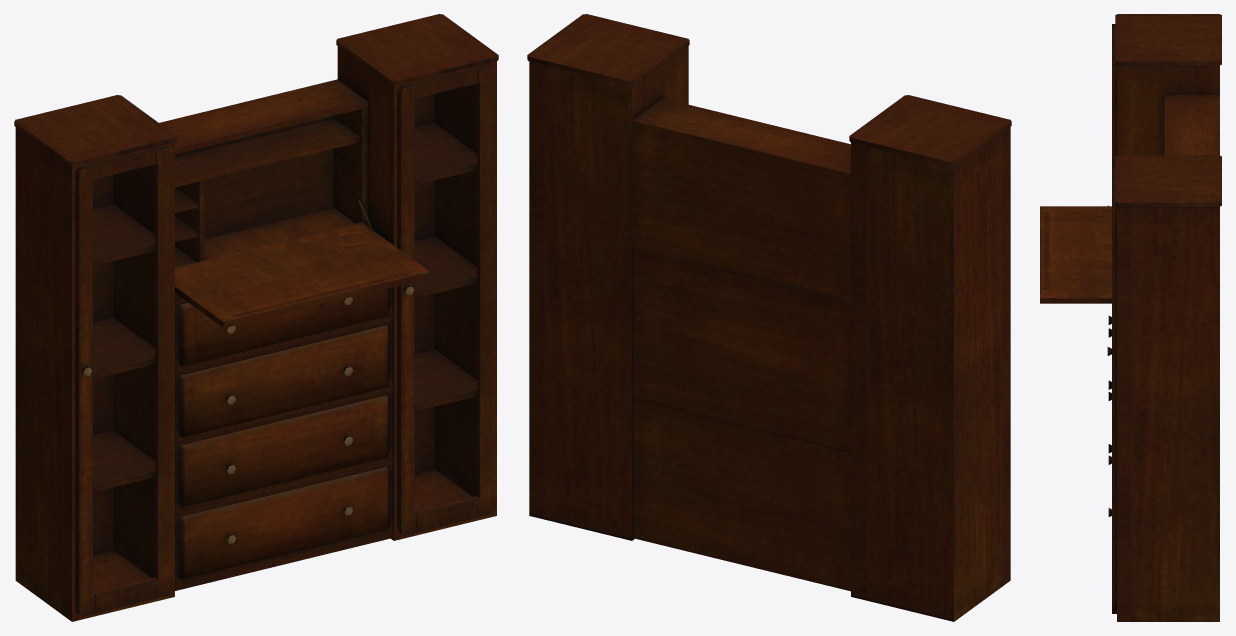
Rendered from si-kommode.glb.
3 renders of one model, left to right at view 1: azimuth 30°, elevation 25°; view 2: azimuth 150°, elevation 25°; view 3: azimuth 270°, elevation 25°, orthographic. The views are drawn at different scales.
Visible parts, largest first — view 1: si-kommode; view 2: si-kommode; view 3: si-kommode.
Part boxes in pixels (bbox=[...]): si-kommode: bbox=[14, 14, 498, 621]; si-kommode: bbox=[527, 14, 1011, 621]; si-kommode: bbox=[1040, 14, 1221, 621].
Bounding box in the file's own units: 1.08 × 1.11 × 0.4338.
1 material, 1 textured.
